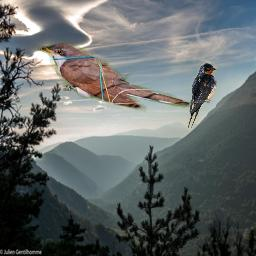Cuckoo: (36, 39, 194, 116)
Swallow: (186, 62, 217, 129)
